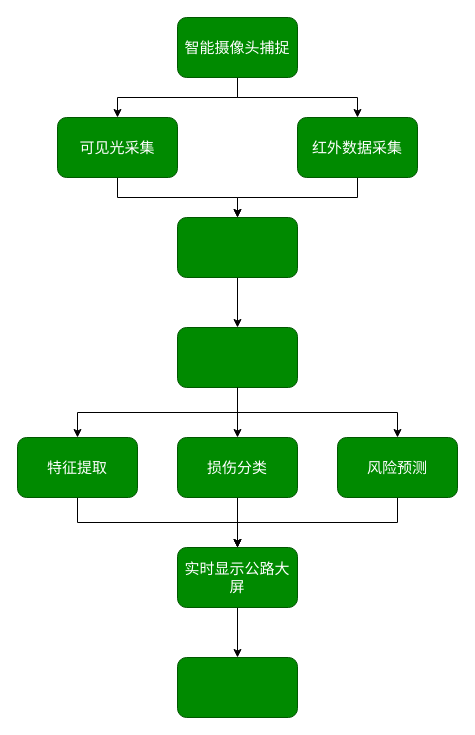
Some shapes in this 475 by 735 pixel diagram are drawn without their labels. Each missing label, with the centre of its shape:
人工智能算法分析: the point at 237,357
检测道路基础设施状态并输出结果: the point at 237,687
视频流数据前置处理: the point at 237,247
